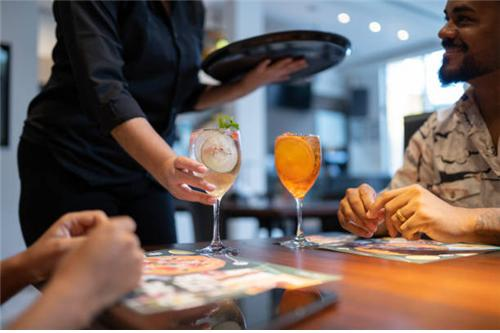alcohol: (188, 126, 240, 259), (273, 133, 319, 250)
